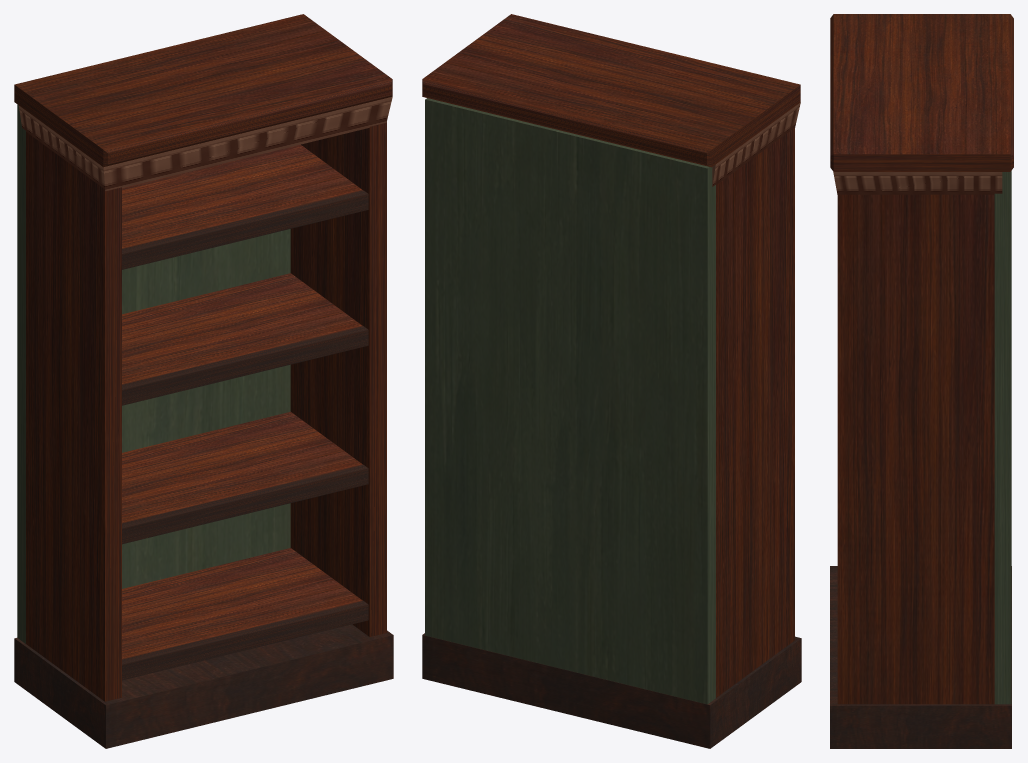
The model's file is city1880-shelf-empty.gltf.
3 renders of one model, left to right at view 1: azimuth 30°, elevation 25°; view 2: azimuth 150°, elevation 25°; view 3: azimuth 270°, elevation 25°, orthographic.
Parts seen in each view (by area): view 1: Open shop shelving · empty; view 2: Open shop shelving · empty; view 3: Open shop shelving · empty.
Boxes of the visible parts, <box> form: Open shop shelving · empty: <box>14,14,393,748</box>; Open shop shelving · empty: <box>422,14,801,748</box>; Open shop shelving · empty: <box>830,14,1013,748</box>.
Bounding box in the file's own units: 0.998 × 1.97 × 0.5525.
Materials: 2 (2 with a texture image).
